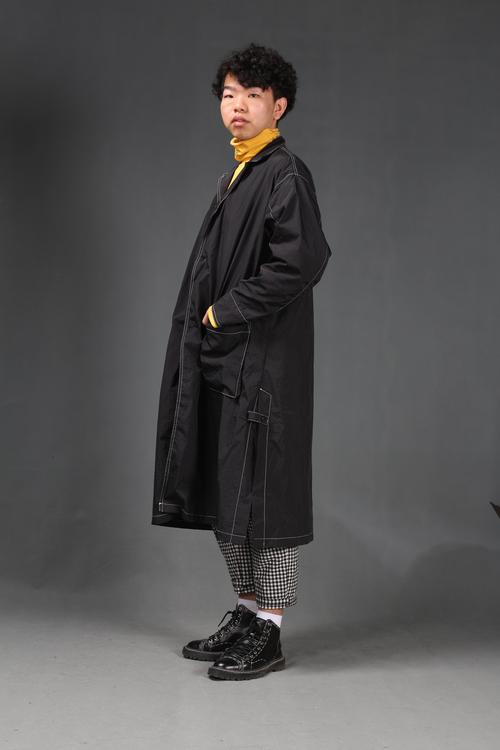up: (154, 29, 342, 701)
